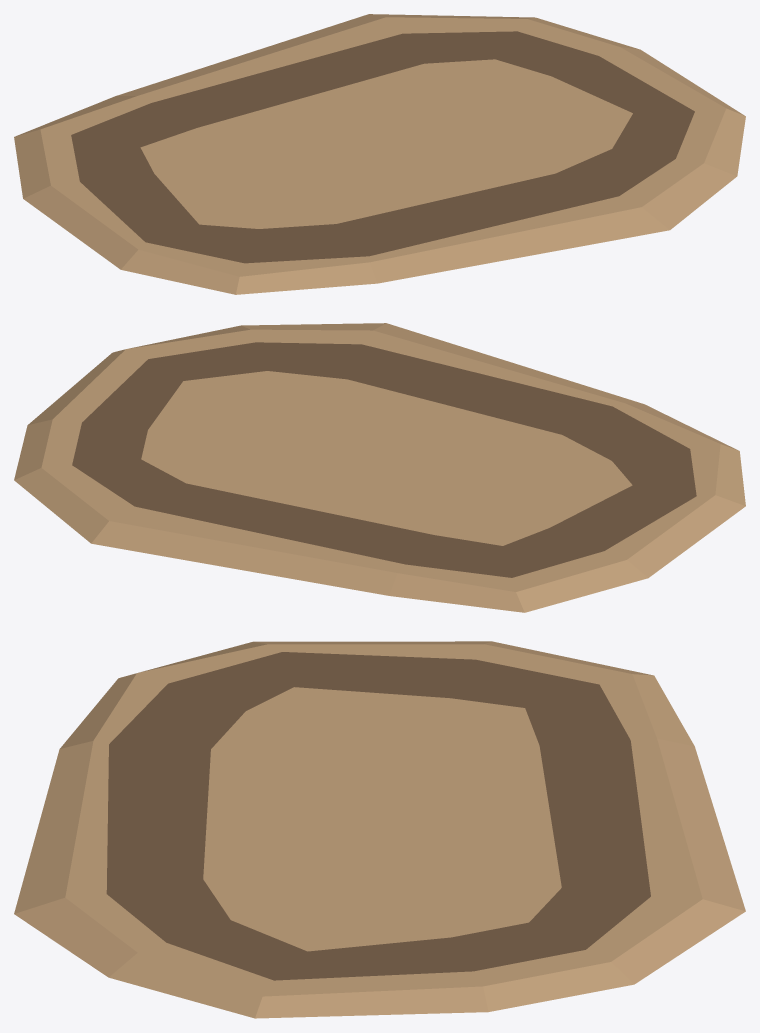
Rendered from SM_Carpet_A.gltf.
The picture shows the model from 3 angles, top to bottom: view 1: azimuth 30°, elevation 25°; view 2: azimuth 150°, elevation 25°; view 3: azimuth 270°, elevation 25°; orthographic projection. The views are drawn at different scales.
Visible parts, largest first — view 1: SM_Carpet_A; view 2: SM_Carpet_A; view 3: SM_Carpet_A.
Part boxes in pixels (x1,y1,x2,y2): SM_Carpet_A: (14, 14, 745, 294); SM_Carpet_A: (14, 323, 745, 612); SM_Carpet_A: (14, 641, 745, 1018).
Size of the model in its own units: 1.21 by 0.0179 by 0.9915.
Materials: 1 (1 with a texture image).
